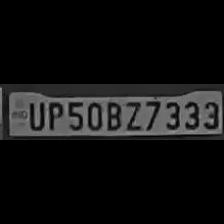0: (84, 100, 104, 130)
3: (162, 99, 180, 129), (181, 99, 199, 129), (200, 99, 218, 129)
5: (64, 98, 84, 130)
7: (141, 98, 159, 130)
B: (102, 99, 122, 131)
P: (45, 99, 63, 131)
U: (24, 98, 43, 130)
Z: (122, 98, 142, 130)
